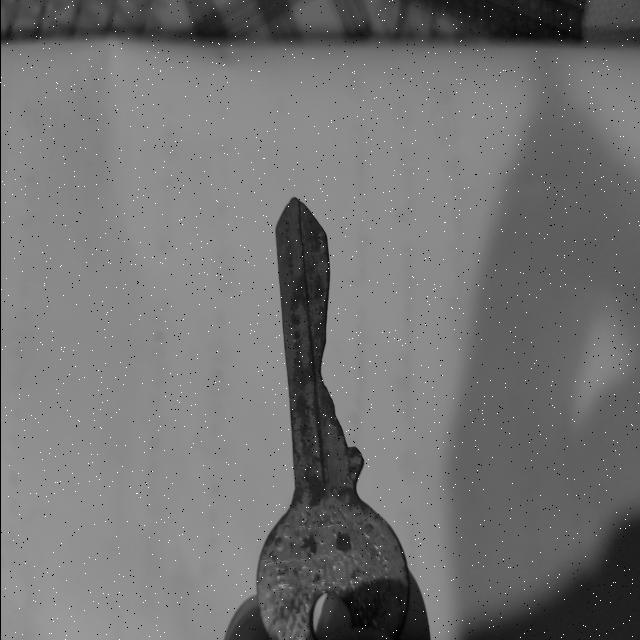key: (256, 198, 408, 640)
